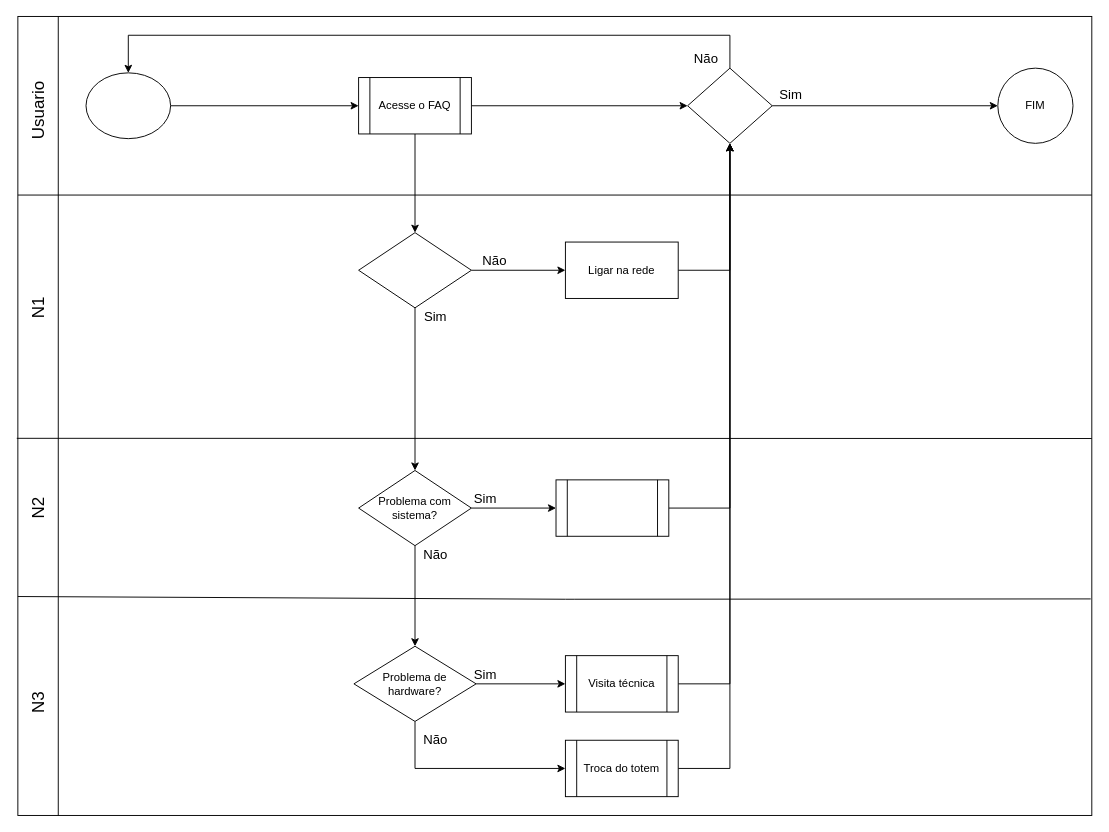
The diagram is 1109 pixels wide and 832 high, and some of its shapes have lost their labels. The shapes that lost their labels are listed below. From the top down, each one's box as (x1, y1, x2, y2) in pixels, then its label:
(85, 72, 171, 139): Erro de leitura
(687, 67, 772, 143): funcionou?
(358, 232, 471, 308): Está conectado a rede?
(555, 479, 669, 536): Arrumar o sistema
